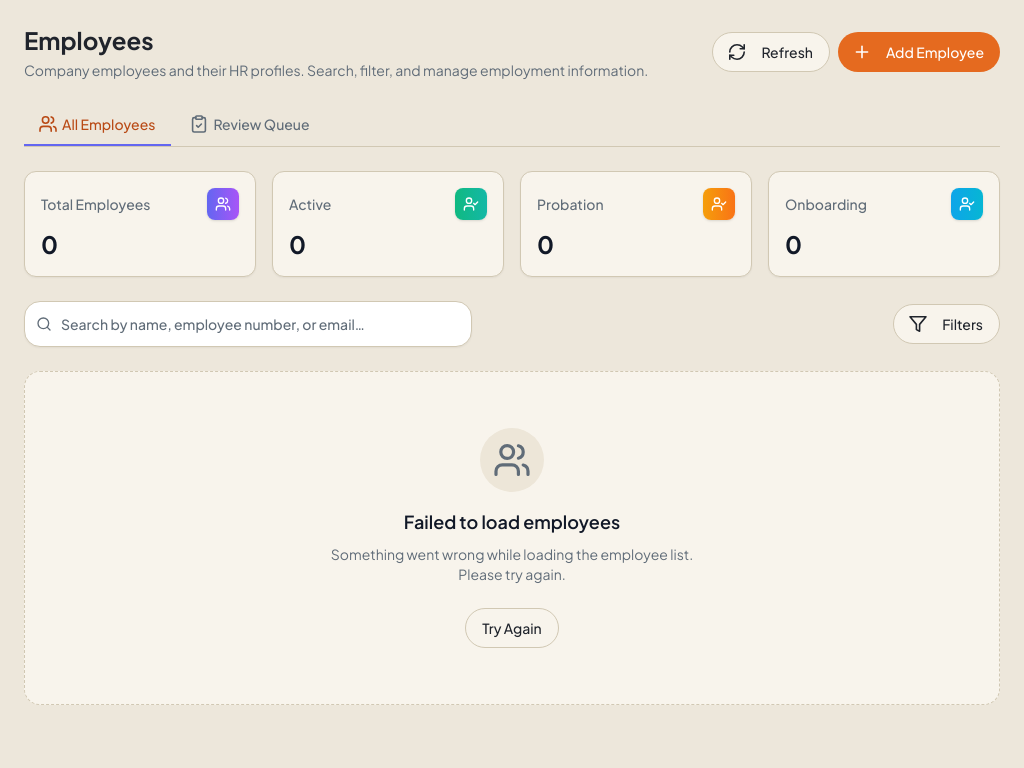
it: EmployeesPage › shows an error state and retries
Expected: the heading "Failed to load employees" is shown, [404,508,620,536]
Click the button "Try Again": x=512, y=628 [465,608,559,648]
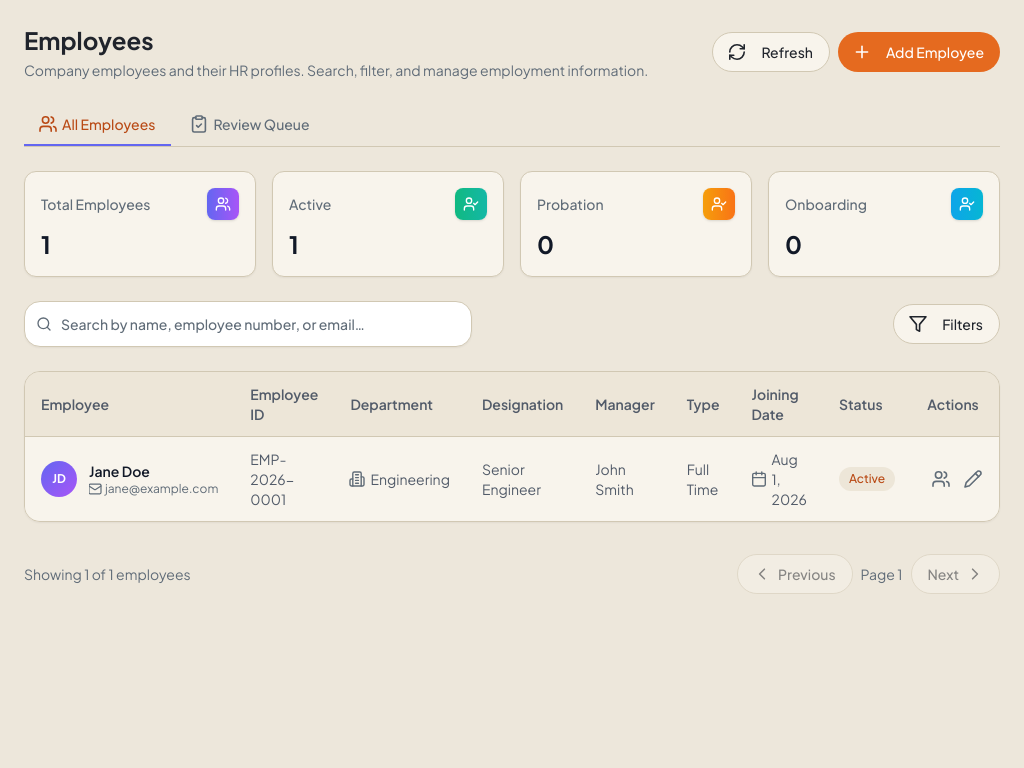
Expected: the text "Jane Doe" is shown, [89,462,150,480]
